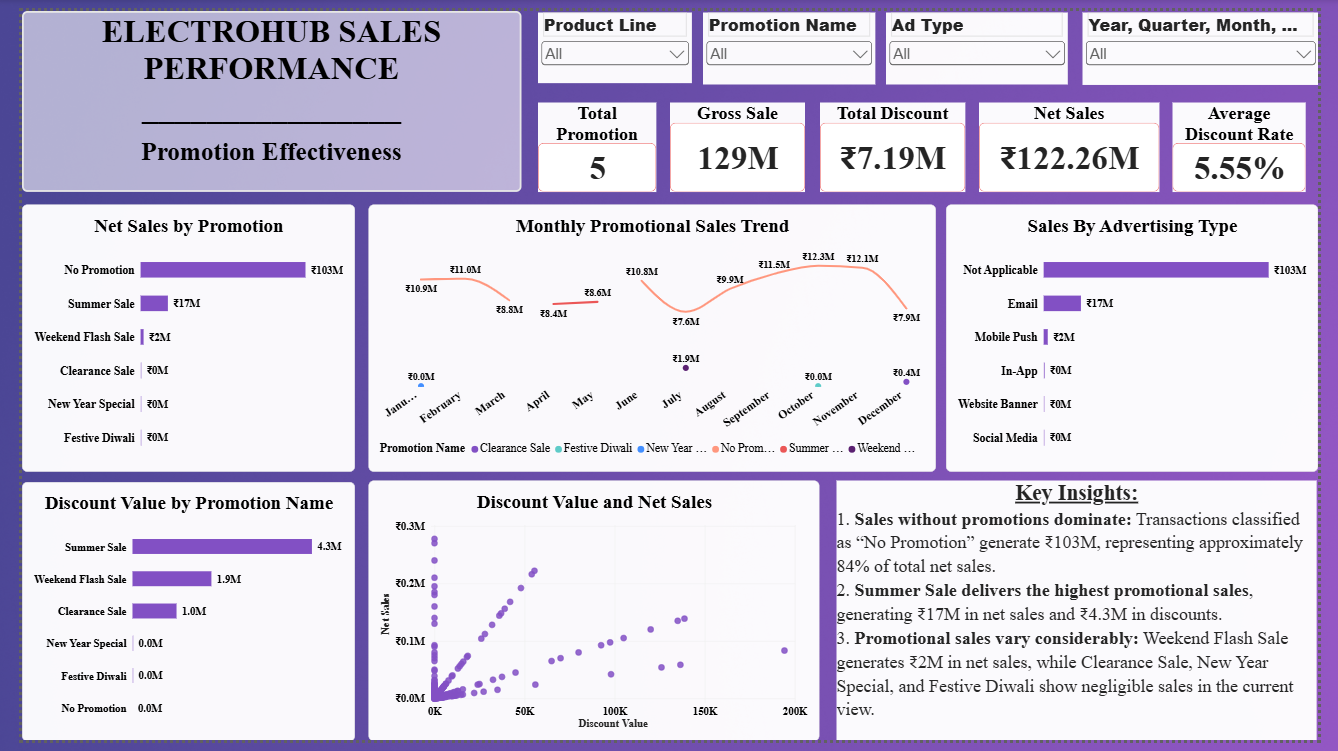

What the dashboard file says about the page in this screenshot:
{"tool":"powerbi","page":{"name":"Promotion Effectiveness","canvas":[1920,1080],"ordinal":2},"visuals":[{"type":"cardVisual","title":"Total Promotion","fields":{"Data":["Measure Table.Total Promotion"]},"box":[765,135,175,132.5],"z":0},{"type":"cardVisual","title":"Gross Sale","fields":{"Data":["Measure Table.Gross Sale"]},"box":[960.6,135,200,132.5],"z":1000},{"type":"cardVisual","title":"Average Discount Rate","fields":{"Data":["Measure Table.Avg Discount Rate"]},"box":[1705,136,197.5,132.5],"z":2000},{"type":"textbox","box":[0,0,740,268],"z":3000},{"type":"slicer","title":"City","fields":{"Values":["Dim Promotion.Promotion Name"]},"box":[1008,2.4,255,106.9],"z":4000},{"type":"slicer","title":"City","fields":{"Values":["FactSales.Date (dd/mm/yyyy).Variation.Date Hierarchy.Year","FactSales.Date (dd/mm/yyyy).Variation.Date Hierarchy.Quarter","FactSales.Date (dd/mm/yyyy).Variation.Date Hierarchy.Month","FactSales.Date (dd/mm/yyyy).Variation.Date Hierarchy.Day"]},"box":[1570,2.5,350,107.5],"z":5000},{"type":"slicer","title":"City","fields":{"Values":["Dim Product.Product Line"]},"box":[765.1,2.4,228.3,104.4],"z":6000},{"type":"barChart","title":"Net Sales by Promotion","fields":{"Category":["Dim Promotion.Promotion Name"],"Y":["Sum(FactSales.Net Sales)"]},"box":[0,286.6,493.1,395.9],"z":7000},{"type":"cardVisual","title":"Total Discount","fields":{"Data":["Measure Table.Total Discount"]},"box":[1181.3,136,215,132.5],"z":8000},{"type":"cardVisual","title":"Net Sales","fields":{"Data":["Sum(FactSales.Net Sales)"]},"box":[1416.9,136,267.5,132.5],"z":9000},{"type":"clusteredBarChart","title":"Sales By Advertising Type","fields":{"Category":["Dim Promotion.Ad Type"],"Y":["Sum(FactSales.Net Sales)"]},"box":[1369.9,286.6,551.3,395.9],"z":10000},{"type":"barChart","title":"Discount Value by Promotion Name","fields":{"Category":["Dim Promotion.Promotion Name"],"Y":["Sum(FactSales.Discount Value)"]},"box":[0,697.1,493.1,383.8],"z":11000},{"type":"scatterChart","fields":{"X":["FactSales.Discount Value"],"Y":["FactSales.Net Sales"]},"box":[512.5,694.6,667.9,386.2],"z":12000},{"type":"lineChart","title":"Monthly Promotional Sales Trend","fields":{"Category":["FactSales.Date (dd/mm/yyyy).Variation.Date Hierarchy.Month"],"Series":["Dim Promotion.Promotion Name"],"Y":["Sum(FactSales.Net Sales)"]},"box":[512.5,286.6,840.4,395.9],"z":13000},{"type":"textbox","box":[1207.1,694.6,711.7,386.2],"z":14000},{"type":"slicer","title":"City","fields":{"Values":["Dim Promotion.Ad Type"]},"box":[1280,2.4,269.6,106.9],"z":15000}]}

Visuals, with their boxes in screenshot pixels (x1, y1, x2, y2), scaled from the page's 1920x1080 canvas onto the 1338x751 screenshot:
"Total Promotion" cardVisual: <bbox>533, 94, 655, 186</bbox>
"Gross Sale" cardVisual: <bbox>669, 94, 809, 186</bbox>
"Average Discount Rate" cardVisual: <bbox>1188, 95, 1326, 187</bbox>
textbox: <bbox>0, 0, 516, 186</bbox>
"City" slicer: <bbox>702, 2, 880, 76</bbox>
"City" slicer: <bbox>1094, 2, 1337, 76</bbox>
"City" slicer: <bbox>533, 2, 692, 74</bbox>
"Net Sales by Promotion" barChart: <bbox>0, 199, 344, 475</bbox>
"Total Discount" cardVisual: <bbox>823, 95, 973, 187</bbox>
"Net Sales" cardVisual: <bbox>987, 95, 1174, 187</bbox>
"Sales By Advertising Type" clusteredBarChart: <bbox>955, 199, 1337, 475</bbox>
"Discount Value by Promotion Name" barChart: <bbox>0, 485, 344, 750</bbox>
scatterChart - FactSales.Discount Value x FactSales.Net Sales: <bbox>357, 483, 823, 750</bbox>
"Monthly Promotional Sales Trend" lineChart: <bbox>357, 199, 943, 475</bbox>
textbox: <bbox>841, 483, 1337, 750</bbox>
"City" slicer: <bbox>892, 2, 1080, 76</bbox>
